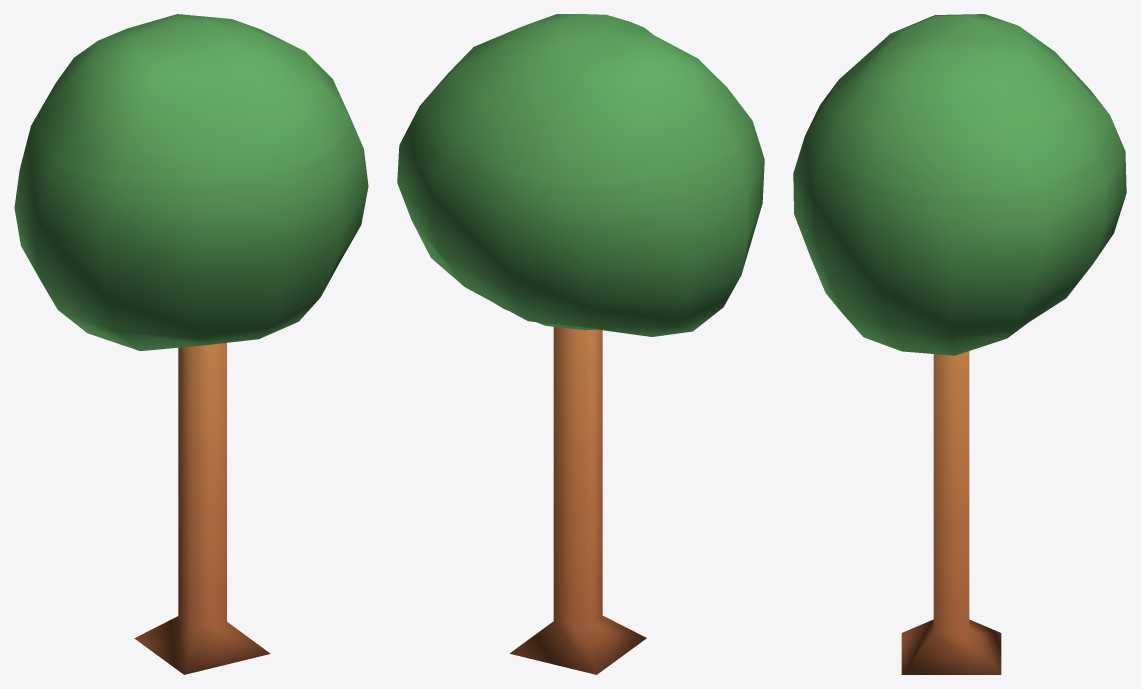
The model's file is Tree_1.fbx.
The picture shows the model from 3 angles, left to right: view 1: azimuth 30°, elevation 25°; view 2: azimuth 150°, elevation 25°; view 3: azimuth 270°, elevation 25°; orthographic projection.
Visible parts, largest first — view 1: Tree_1; view 2: Tree_1; view 3: Tree_1.
Part boxes in pixels (x1,y1,x2,y2): Tree_1: [14, 14, 368, 674]; Tree_1: [397, 14, 764, 674]; Tree_1: [793, 14, 1126, 674].
Bounding box in the file's own units: 97.22 × 179 × 88.44.
